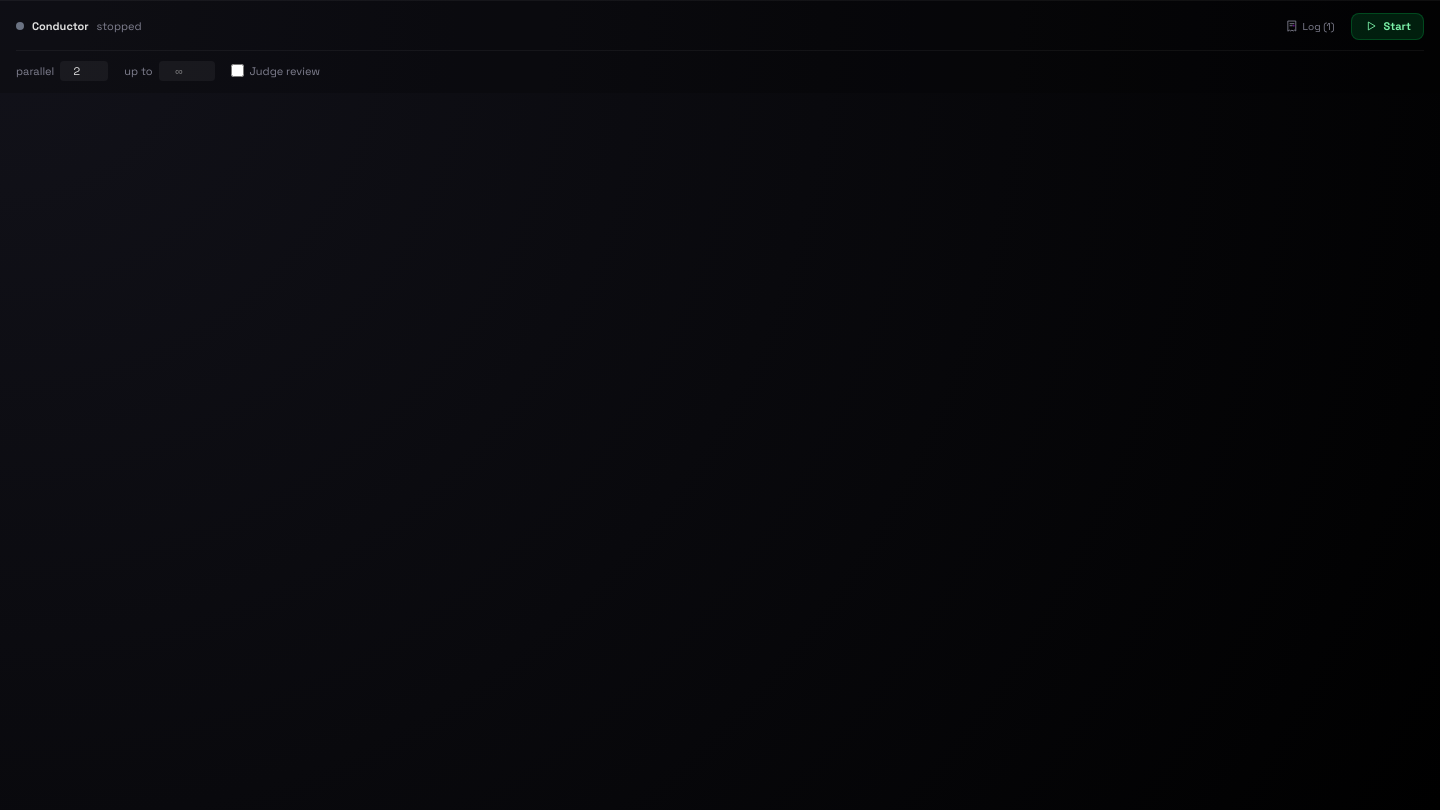
Test: ConductorPanel › toggles the decision log
The image size is (1440, 810).
Click the button with test id "conductor-log-toggle" at (1310, 26), box x1=1276 y1=15 x2=1342 y2=38
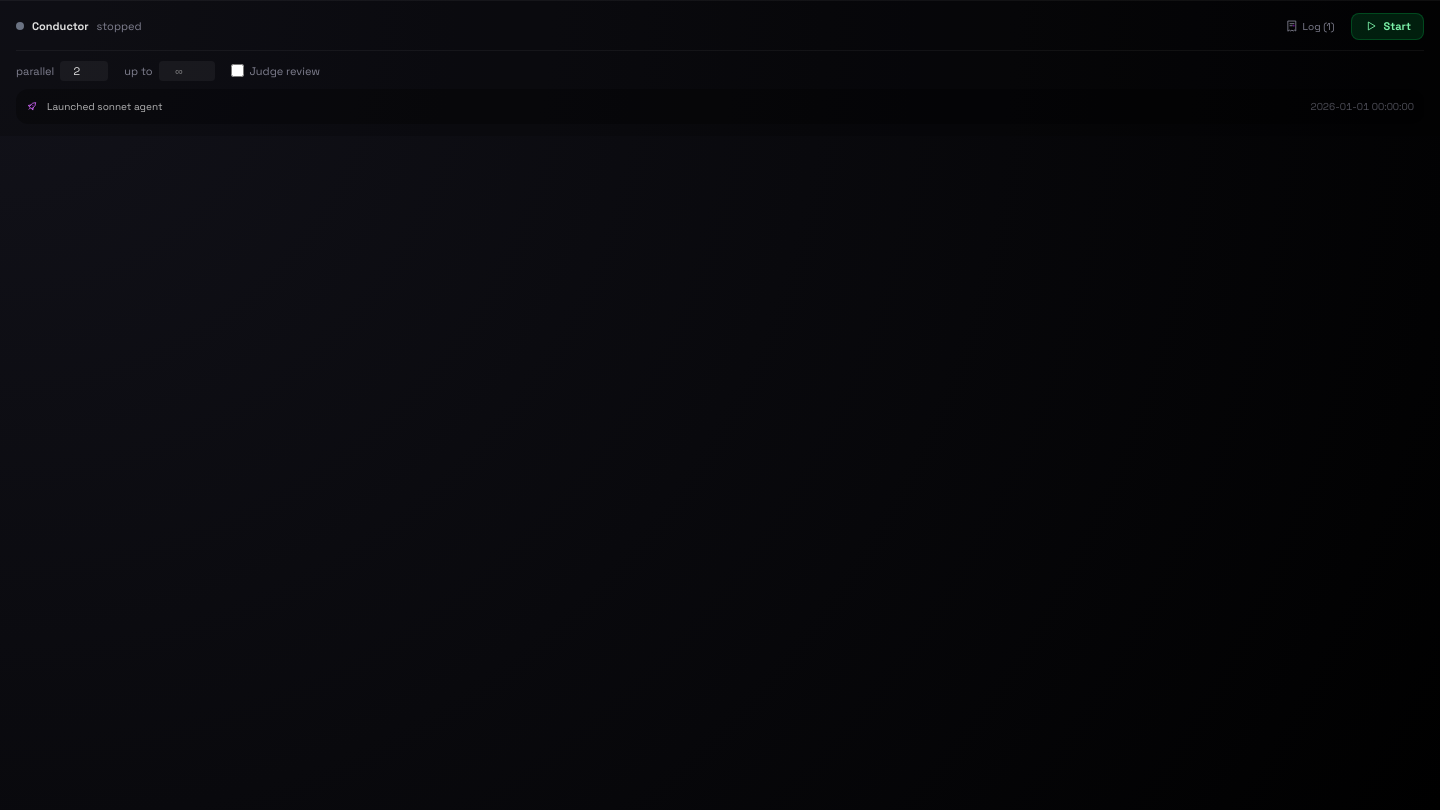
Check: the element with test id "conductor-log" shows "Launched sonnet agent", box x1=47 y1=100 x2=162 y2=113
